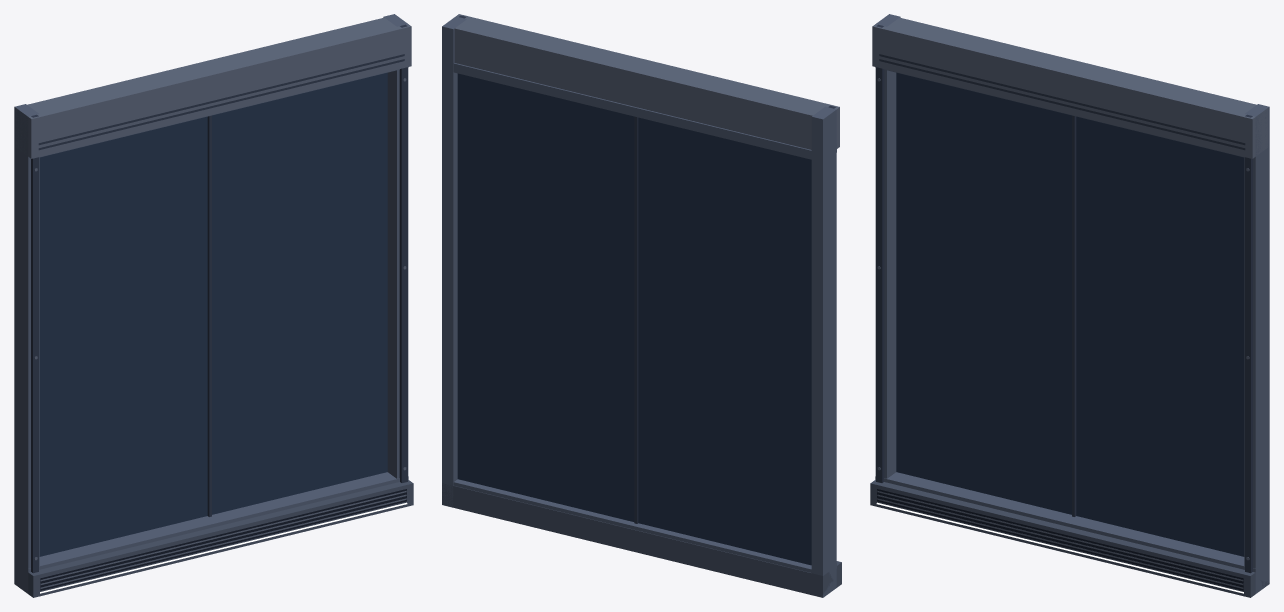
Rendered from off_facade_mullion.glb.
The picture shows the model from 3 angles, left to right: view 1: azimuth 30°, elevation 25°; view 2: azimuth 150°, elevation 25°; view 3: azimuth 330°, elevation 25°; orthographic projection.
Visible parts, largest first — view 1: curtain_glass, blind_pelmet, pressure_plate, blind_slot, convector, inlet, floor_light; view 2: curtain_glass, pressure_plate, blind_pelmet, convector, blind_slot; view 3: curtain_glass, blind_pelmet, pressure_plate, blind_slot, convector, inlet, floor_light.
Boxes of the visible parts, left/top/right/bottom form: curtain_glass: left=39, top=72, right=387, bottom=556; blind_pelmet: left=15, top=17, right=411, bottom=588; pressure_plate: left=14, top=14, right=408, bottom=593; blind_slot: left=31, top=24, right=407, bottom=573; convector: left=28, top=480, right=413, bottom=597; inlet: left=40, top=489, right=406, bottom=590; floor_light: left=40, top=502, right=407, bottom=593; curtain_glass: left=457, top=73, right=811, bottom=565; pressure_plate: left=442, top=16, right=836, bottom=597; blind_pelmet: left=454, top=14, right=839, bottom=149; convector: left=442, top=483, right=841, bottom=597; blind_slot: left=459, top=15, right=835, bottom=523; curtain_glass: left=896, top=72, right=1244, bottom=556; blind_pelmet: left=872, top=17, right=1268, bottom=588; pressure_plate: left=875, top=14, right=1269, bottom=593; blind_slot: left=876, top=24, right=1252, bottom=573; convector: left=870, top=480, right=1269, bottom=597; inlet: left=877, top=489, right=1243, bottom=590; floor_light: left=876, top=502, right=1243, bottom=593.
Size of the model in its own units: 4 by 4.8 by 0.35.
